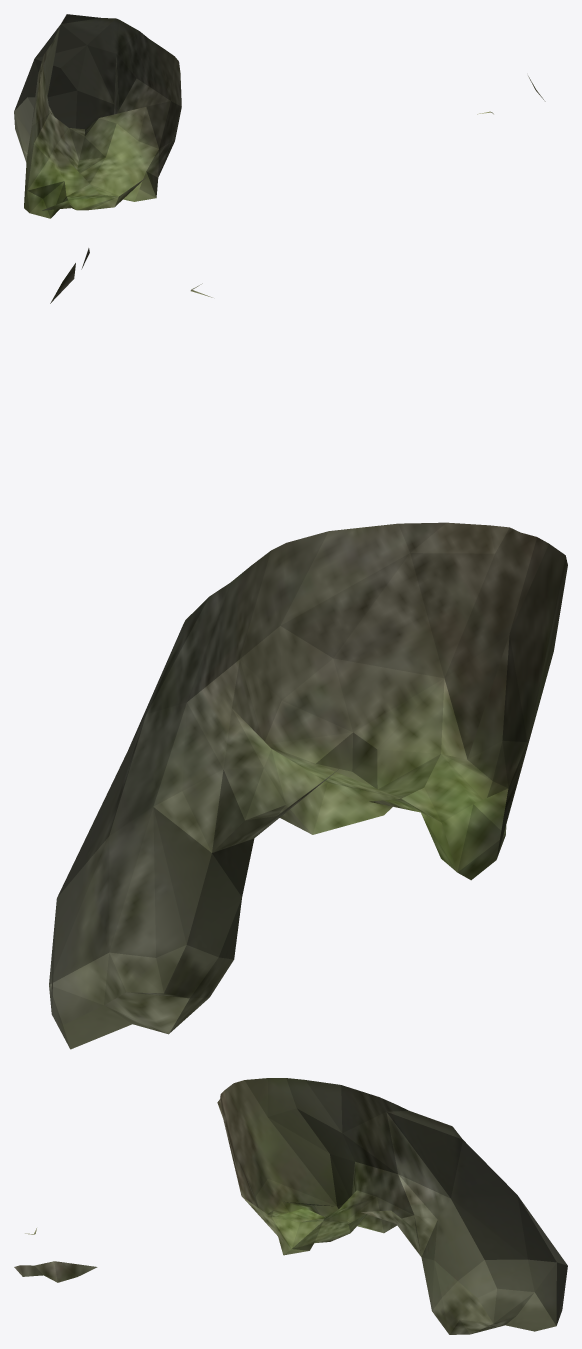
3 renders of one model, top to bottom at view 1: azimuth 30°, elevation 25°; view 2: azimuth 150°, elevation 25°; view 3: azimuth 270°, elevation 25°, orthographic. The views are drawn at different scales.
Size of the model in its own units: 6.91 by 3.31 by 8.49.
Materials: 1 (1 with a texture image).
